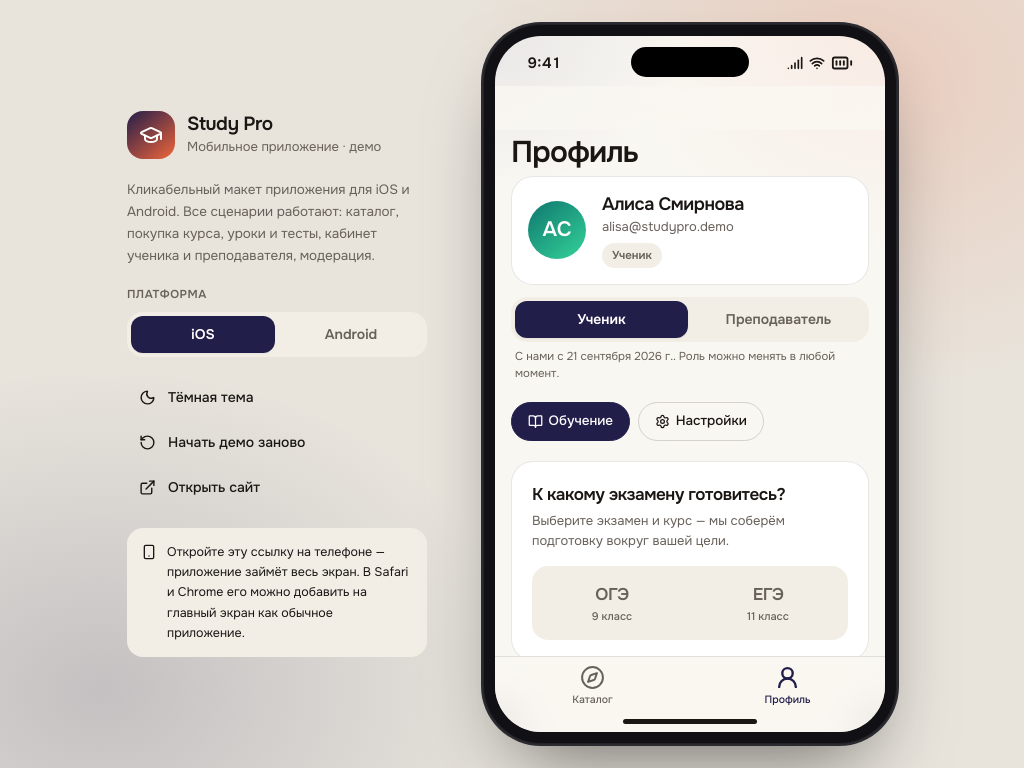
Scenario: student cabinet › asks to choose ОГЭ/ЕГЭ and a course
This screenshot has width=1024, height=768.
Expected: the heading "К какому экзамену готовитесь?" is shown, 532,484 -> 785,504
Click the radio button labelled "ОГЭ 9 класс" at (612, 603), box 536,570 -> 688,636
(page scrolled)
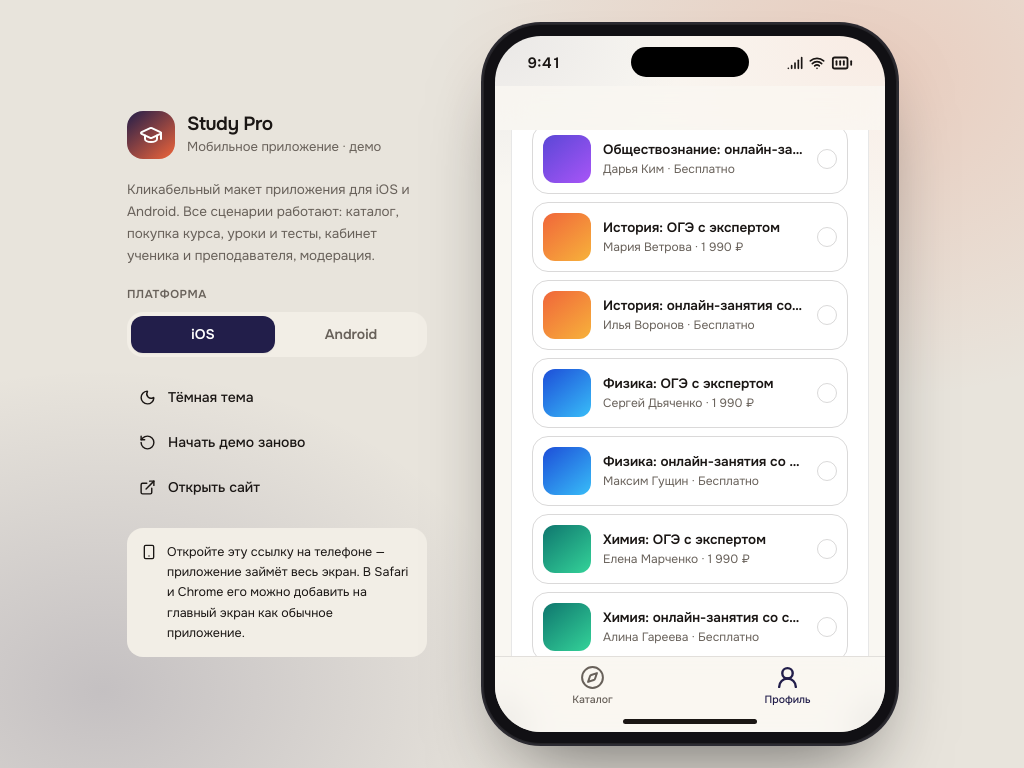
Click the radio button labelled "Физика: ОГЭ с экспертом Сергей Дьяченко · 1 990 ₽" at (690, 393), box 532,358 -> 848,428
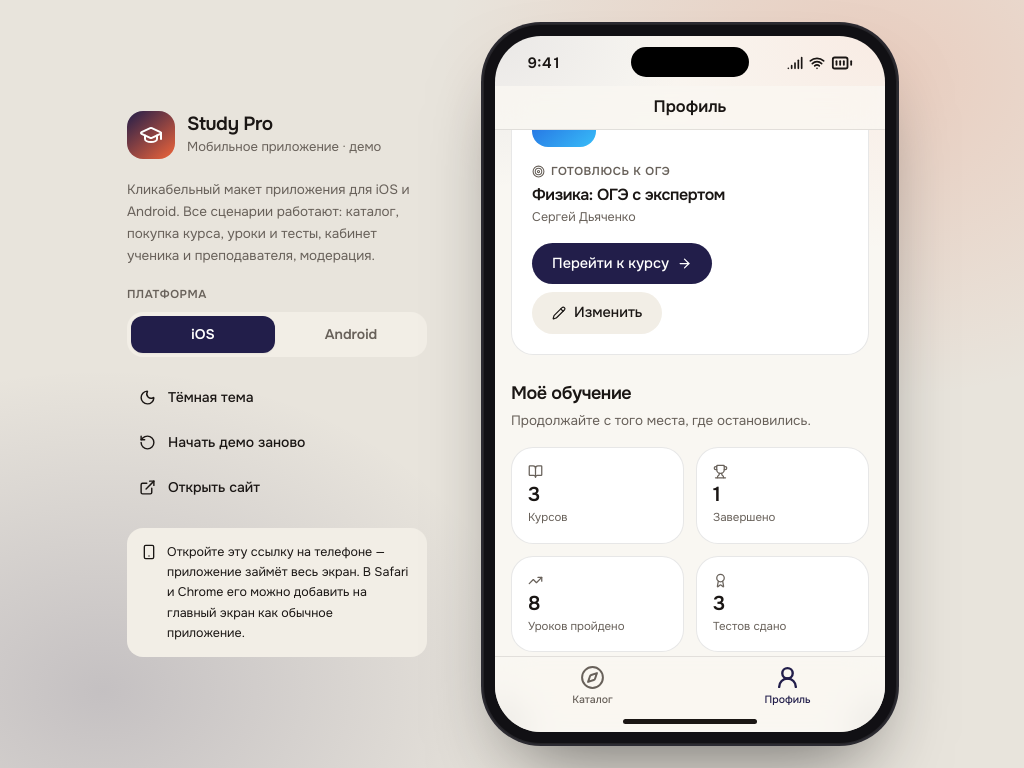
Now the element named "Цель подготовки" shows "Готовлюсь к ОГЭ", box 511,130 -> 869,355
Now the heading "Моё обучение" is shown, box 511,382 -> 631,404
